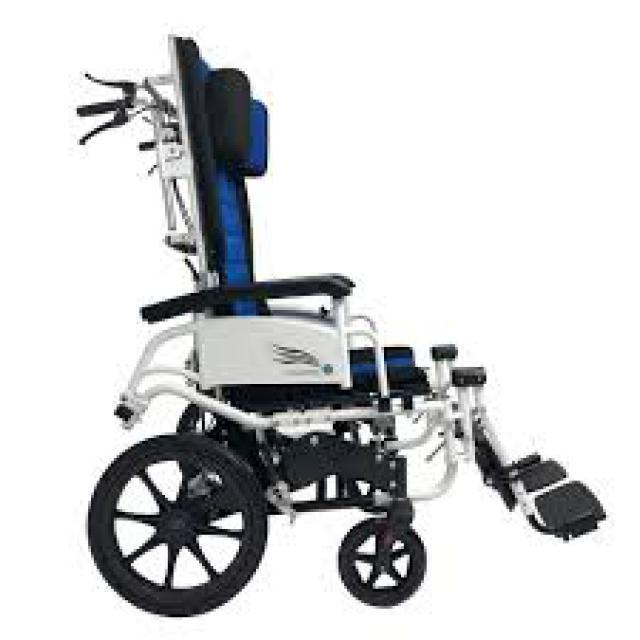wheelchairs: (77, 43, 599, 614)
